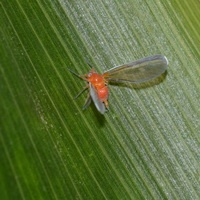insect: (67, 54, 167, 113)
